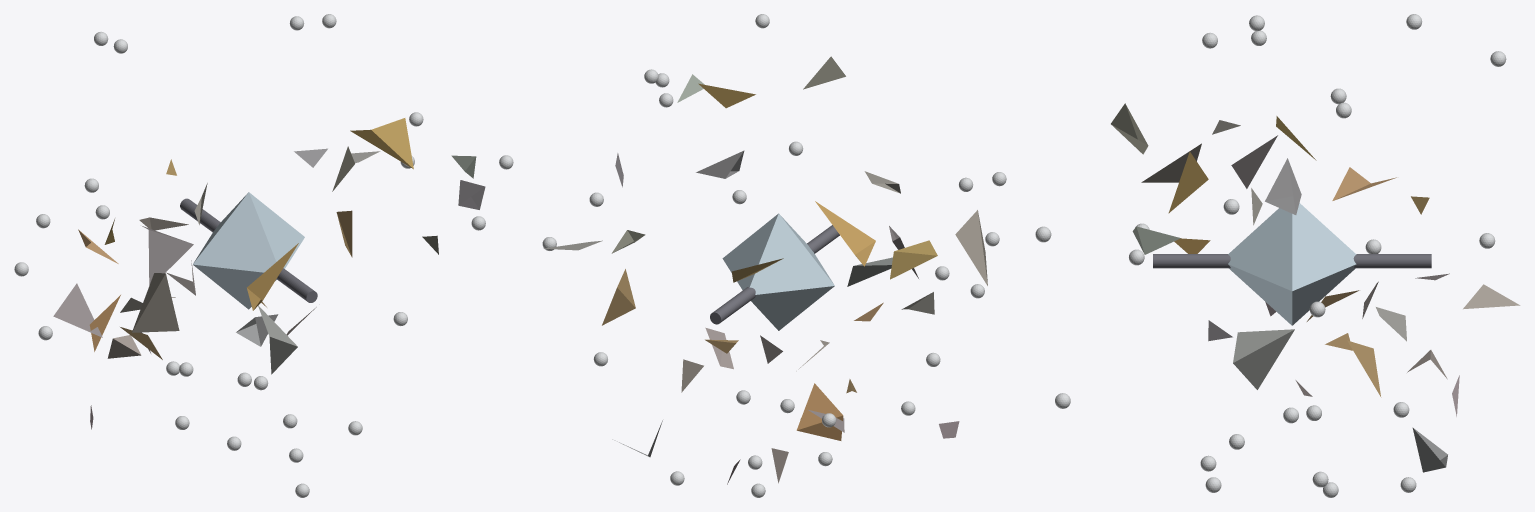
The model's file is chiron_cluster_lead75.glb.
3 renders of one model, left to right at view 1: azimuth 30°, elevation 25°; view 2: azimuth 150°, elevation 25°; view 3: azimuth 270°, elevation 25°, orthographic. The views are drawn at different scales.
Visible parts, largest first — view 1: CoreCrystal, Shard_28, Shard_03, Shard_22, IronSpine, Shard_20, Shard_25, Shard_29, Shard_02, Shard_19, Shard_09; view 2: CoreCrystal, Shard_00, IronSpine, Shard_28, Shard_29, Shard_18, Shard_11, Shard_01, Shard_07, Shard_03, Shard_12; view 3: CoreCrystal, IronSpine, Shard_25, Shard_07, Shard_03, Shard_19, Shard_22, Shard_12, Shard_28, Shard_26, Shard_16, Shard_06 (+1 smaller).
Boxes of the visible parts, box(x1,y1,x2,y2) form: CoreCrystal: box(193, 192, 304, 309); Shard_28: box(132, 273, 179, 332); Shard_03: box(350, 118, 413, 169); Shard_22: box(142, 226, 193, 285); IronSpine: box(180, 198, 317, 302); Shard_20: box(53, 283, 102, 337); Shard_25: box(258, 305, 297, 374); Shard_29: box(247, 243, 298, 310); Shard_02: box(458, 180, 485, 209); Shard_19: box(236, 314, 278, 346); Shard_09: box(107, 335, 141, 358); CoreCrystal: box(722, 213, 834, 330); Shard_00: box(796, 383, 843, 440); IronSpine: box(710, 225, 839, 324); Shard_28: box(955, 210, 987, 285); Shard_29: box(815, 201, 875, 266); Shard_18: box(890, 240, 937, 279); Shard_11: box(602, 269, 635, 325); Shard_01: box(847, 257, 892, 286); Shard_07: box(696, 150, 744, 178); Shard_03: box(698, 83, 755, 108); Shard_12: box(803, 56, 845, 89); CoreCrystal: box(1228, 203, 1356, 325); IronSpine: box(1153, 254, 1431, 268); Shard_25: box(1233, 329, 1294, 389); Shard_07: box(1265, 158, 1301, 214); Shard_03: box(1168, 151, 1208, 213); Shard_19: box(1412, 427, 1447, 472); Shard_22: box(1231, 135, 1277, 188); Shard_12: box(1111, 103, 1148, 154); Shard_28: box(1141, 143, 1201, 182); Shard_26: box(1463, 284, 1520, 309); Shard_16: box(1132, 226, 1180, 254); Shard_06: box(1332, 167, 1396, 200).
Bounding box in the file's own units: 1.36 × 1.38 × 1.22.
